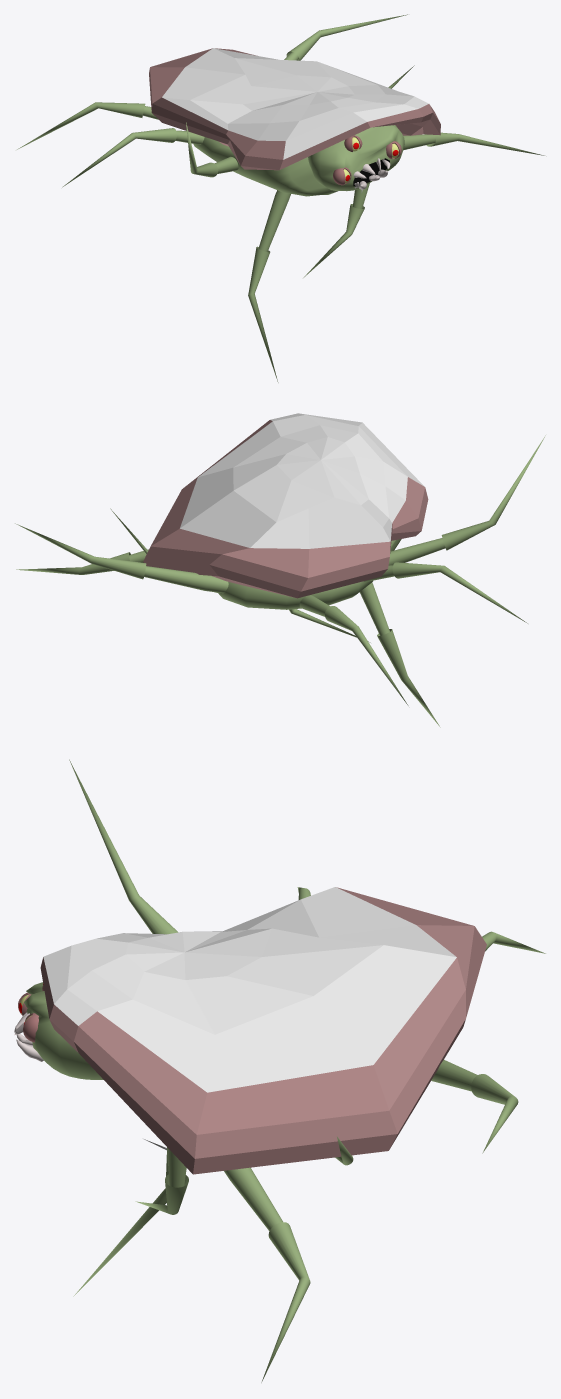
The model's file is Parasite.fbx.
3 views of the same model, one above another, from view 1: azimuth 30°, elevation 25°; view 2: azimuth 150°, elevation 25°; view 3: azimuth 270°, elevation 25° (orthographic). The views are drawn at different scales.
Parts seen in each view (by area): view 1: pSphere1, pasted__pCone2 (×4), pSphere2, pSphere5, pasted__pasted__pCone2 (×2), pasted__pasted__pasted__pCone2; view 2: pSphere1, pasted__pCone2 (×3), pSphere5, pasted__pasted__pCone2 (×2), pasted__pasted__pasted__pCone2; view 3: pSphere1, pasted__pCone2 (×3), pasted__pasted__pCone2, pSphere2, pasted__pasted__pasted__pCone2.
Part boxes in pixels (bbox=[...]): pSphere1: bbox=[149, 48, 440, 170]; pasted__pCone2 (×4): bbox=[62, 14, 407, 277]; pSphere2: bbox=[308, 125, 404, 191]; pSphere5: bbox=[193, 137, 337, 196]; pasted__pasted__pCone2 (×2): bbox=[17, 102, 544, 155]; pasted__pasted__pasted__pCone2: bbox=[248, 190, 290, 382]; pSphere1: bbox=[143, 413, 428, 598]; pasted__pCone2 (×3): bbox=[15, 435, 545, 623]; pSphere5: bbox=[215, 539, 401, 609]; pasted__pasted__pCone2 (×2): bbox=[16, 549, 408, 705]; pasted__pasted__pasted__pCone2: bbox=[359, 582, 440, 727]; pSphere1: bbox=[40, 887, 486, 1174]; pasted__pCone2 (×3): bbox=[69, 759, 518, 1214]; pasted__pasted__pCone2: bbox=[224, 1167, 310, 1382]; pSphere2: bbox=[24, 982, 103, 1079]; pasted__pasted__pasted__pCone2: bbox=[73, 1151, 168, 1296].
Bounding box in the file's own units: 37.01 × 21.41 × 22.16.
